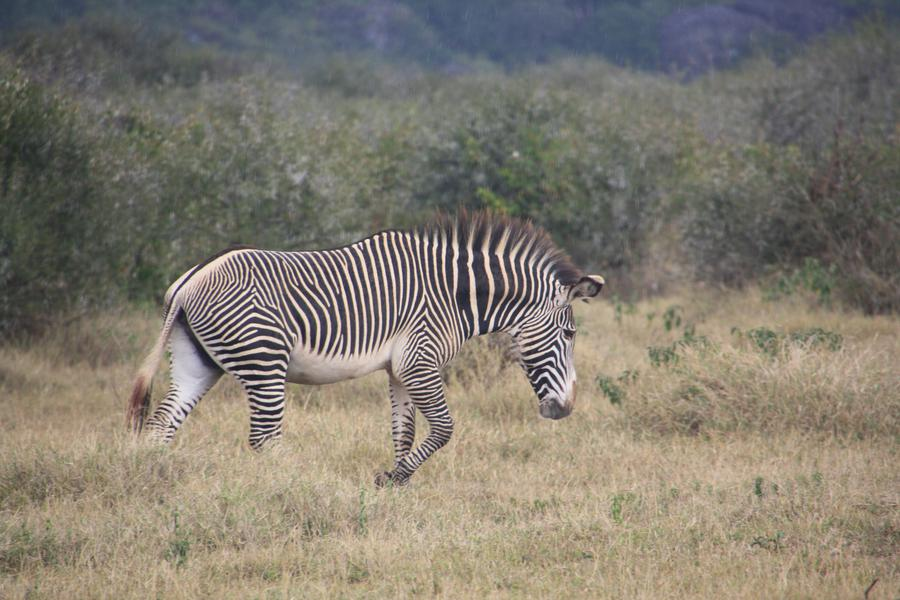zebra_grevys: (163, 237, 448, 367)
